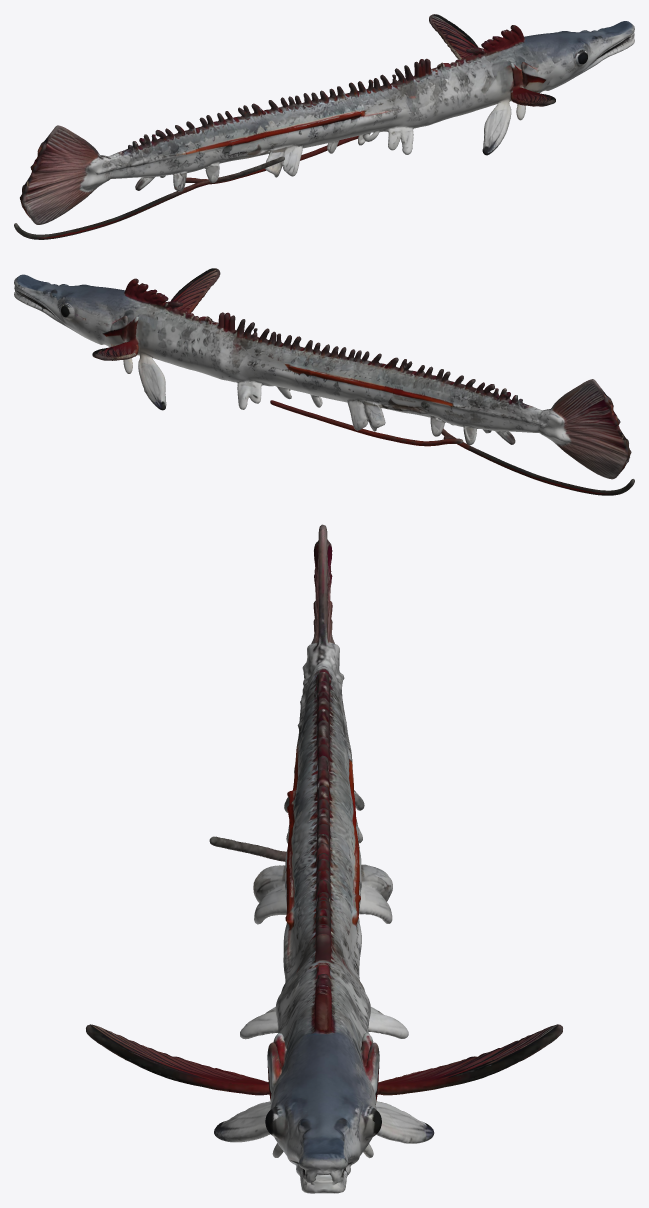
Rendered from oarX_1.glb.
The picture shows the model from 3 angles, top to bottom: view 1: azimuth 30°, elevation 25°; view 2: azimuth 150°, elevation 25°; view 3: azimuth 270°, elevation 25°; orthographic projection. The views are drawn at different scales.
Parts seen in each view (by area): view 1: tripo_node_6b5605fe-93a6-4c86-8ebf-8da9ae82a580; view 2: tripo_node_6b5605fe-93a6-4c86-8ebf-8da9ae82a580; view 3: tripo_node_6b5605fe-93a6-4c86-8ebf-8da9ae82a580.
Part boxes in pixels (x1,y1,x2,y2): tripo_node_6b5605fe-93a6-4c86-8ebf-8da9ae82a580: (14,14,634,239); tripo_node_6b5605fe-93a6-4c86-8ebf-8da9ae82a580: (14,268,634,495); tripo_node_6b5605fe-93a6-4c86-8ebf-8da9ae82a580: (86,524,562,1193).
Size of the model in its own units: 1 by 0.1772 by 0.3347.
1 material, 1 textured.
